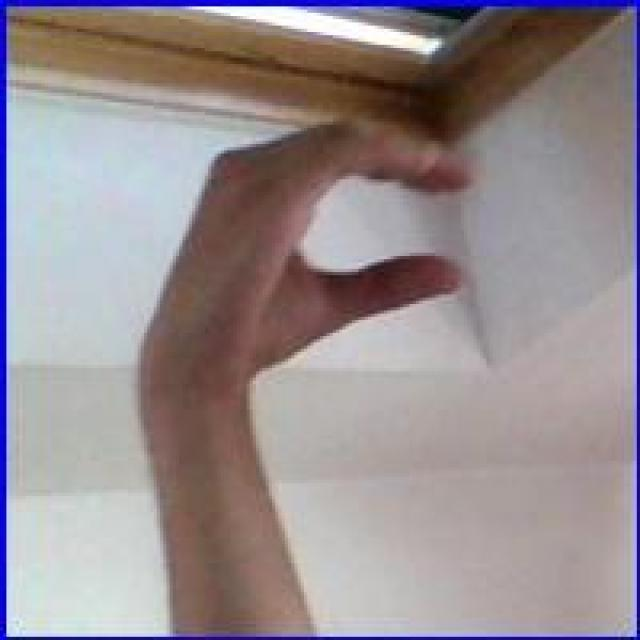C: (125, 104, 483, 389)
